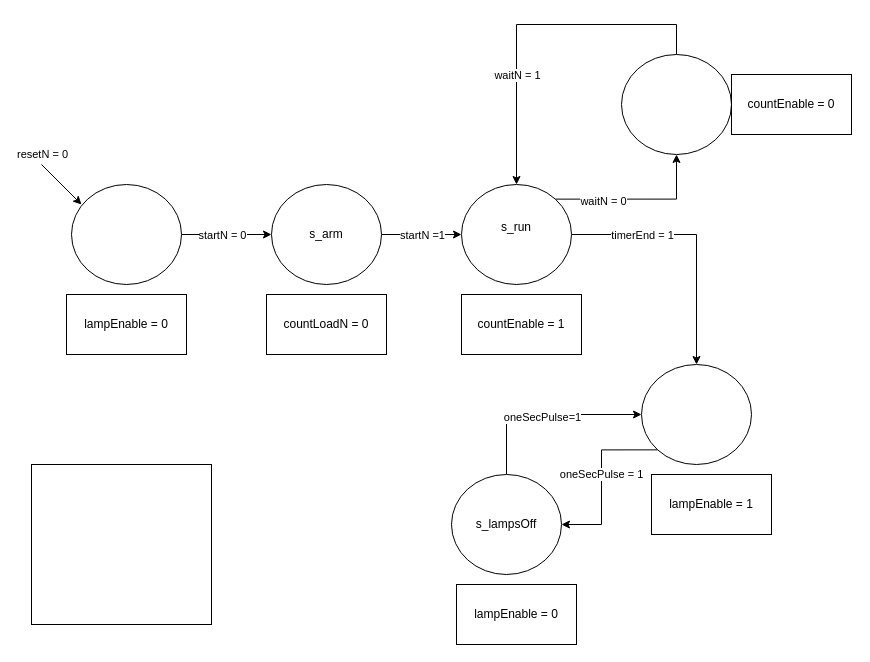
This 870x662 diagram has some shape labels left out. Each missing label, with the centre of its shape:
"DEFAULTS: countLoadN = 1 countEnable = 0 lampEnable = 1" belongs at pixel 121 544.
"s_idle" belongs at pixel 126 234.
"s_lampsOn" belongs at pixel 696 414.
"s_pause" belongs at pixel 676 104.
